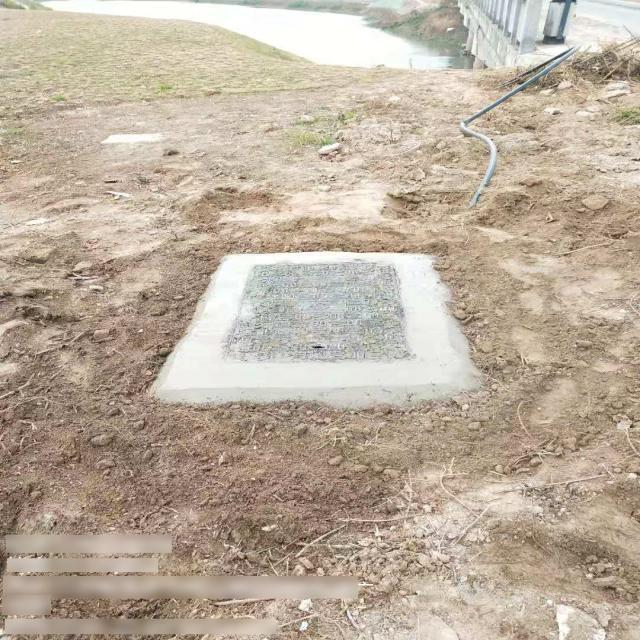Good: (218, 260, 418, 366)
